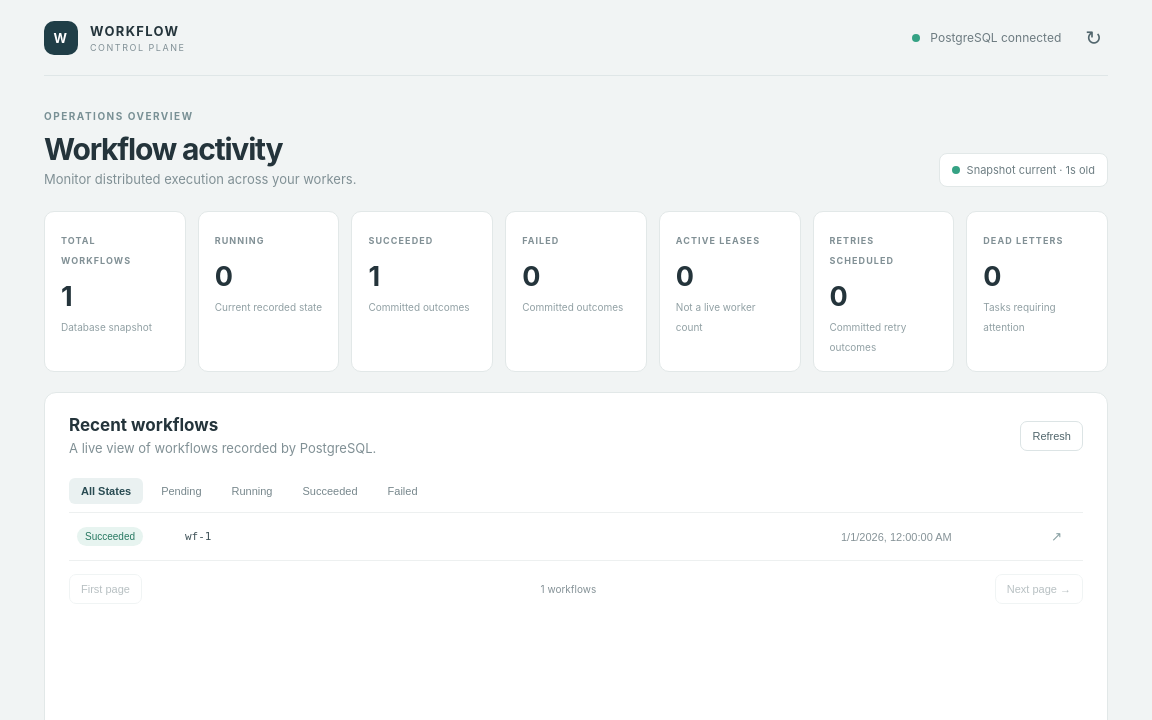
dashboard › loads subsequent durable attempt pages on demand
Click the text "wf-1" at (198, 536), box [185, 530, 212, 543]
(page scrolled)
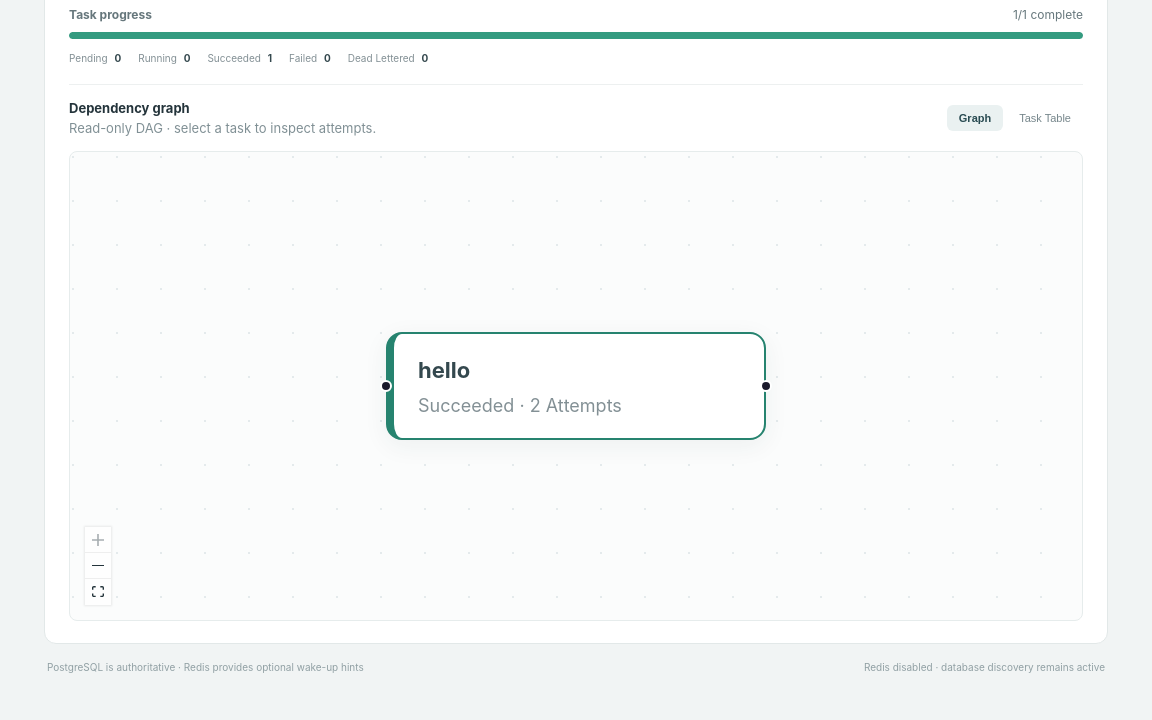
Click the text "hello" at (444, 370), box [418, 356, 470, 384]
(page scrolled)
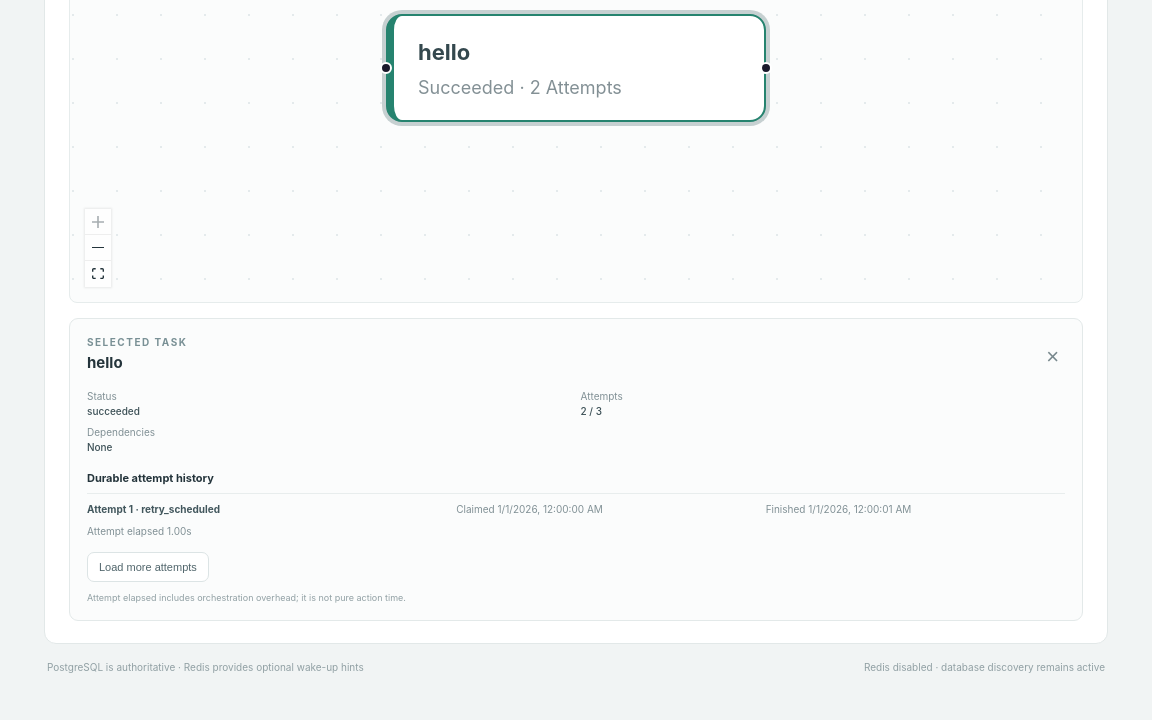
Expected: the text "Attempt 1 · retry_scheduled" is shown, [87, 503, 220, 515]
Click the button "Load more attempts" at (148, 567), box [87, 552, 209, 582]
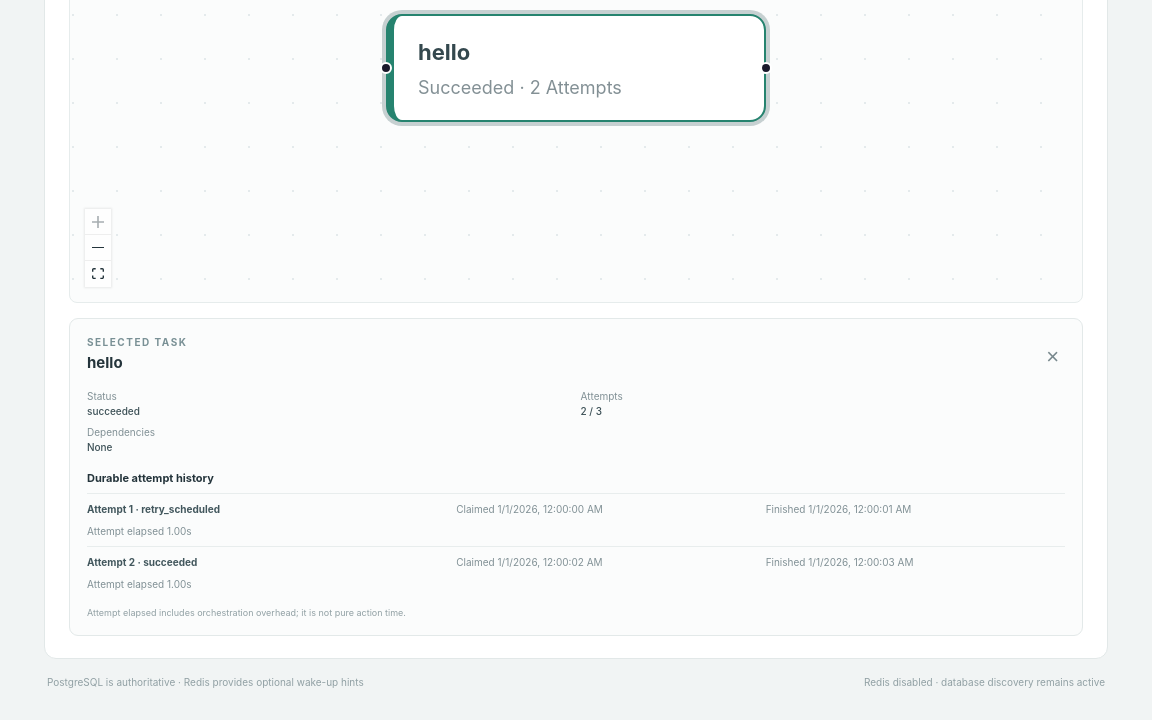
Expected: the text "Attempt 2 · succeeded" is shown, [87, 556, 197, 568]
